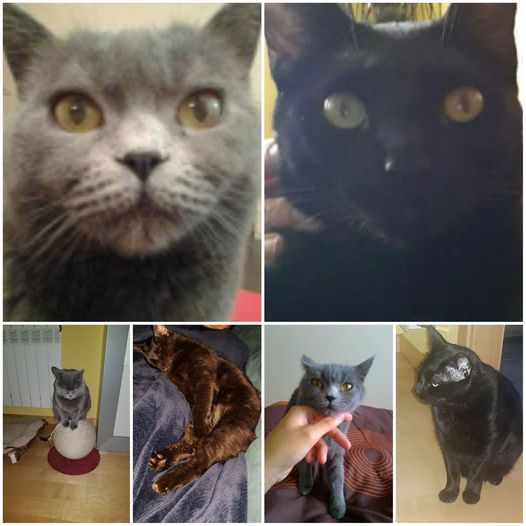cat: (274, 6, 514, 311), (10, 9, 250, 312), (137, 329, 261, 504), (406, 329, 522, 508), (288, 346, 380, 518), (40, 362, 96, 434)
